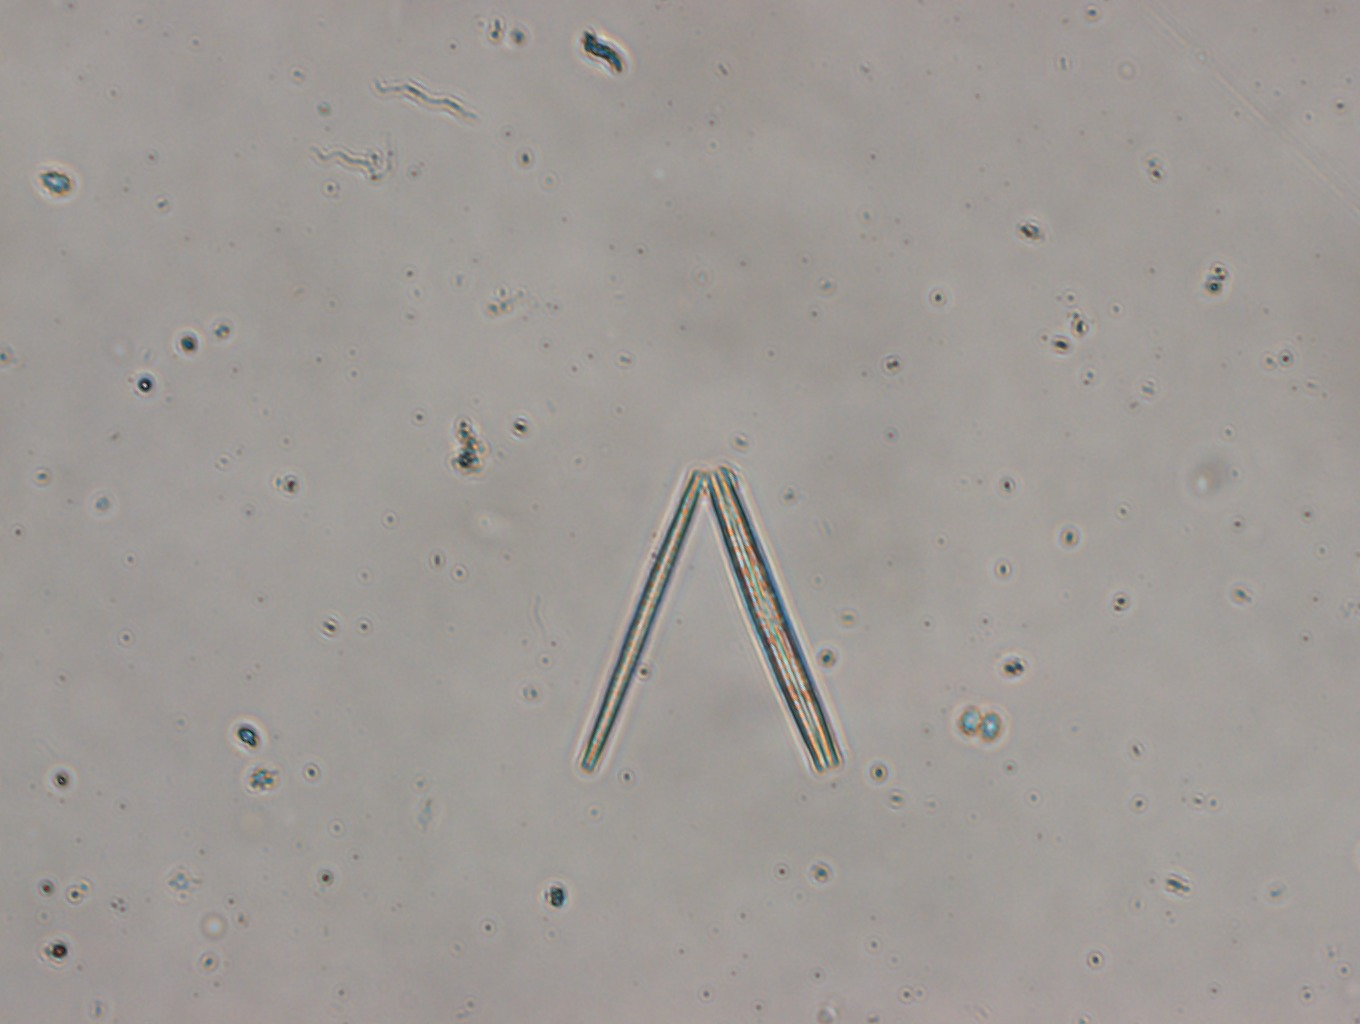thalassionema frauenfeldii: (573, 459, 853, 787)
